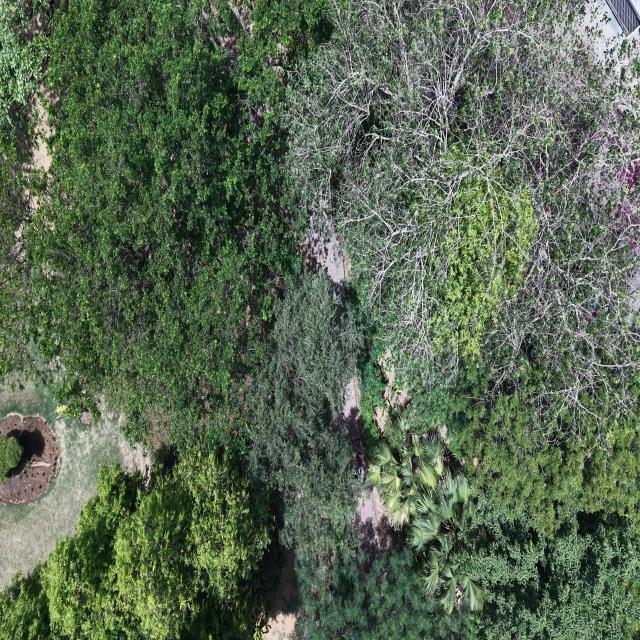DRY_AREA: (0, 384, 150, 586), (337, 377, 388, 557), (0, 414, 58, 504), (339, 377, 367, 484), (266, 550, 297, 639)
VEGETATION_TREE: (0, 0, 639, 639), (286, 2, 639, 604), (286, 0, 639, 531), (4, 0, 325, 437), (288, 2, 636, 383), (0, 273, 361, 638), (25, 0, 290, 437), (369, 406, 639, 639), (0, 448, 273, 639), (299, 500, 639, 639), (248, 272, 362, 570), (459, 501, 639, 639), (368, 406, 484, 613), (0, 0, 51, 381), (299, 543, 471, 639), (0, 139, 32, 381), (0, 0, 52, 143), (0, 566, 48, 639), (359, 335, 388, 450), (0, 435, 22, 480)
WATERBODY: (0, 384, 147, 586)
